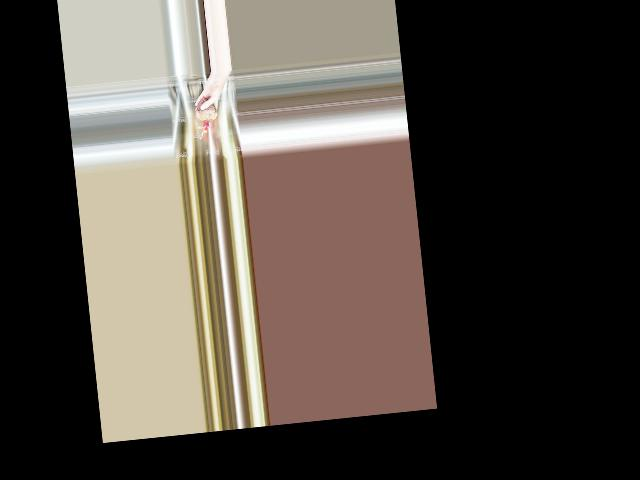beet: (193, 96, 219, 139)
